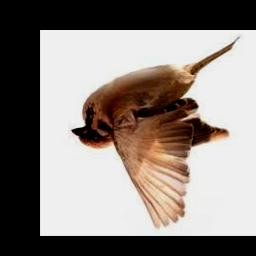Sparrow: (72, 37, 241, 230)
